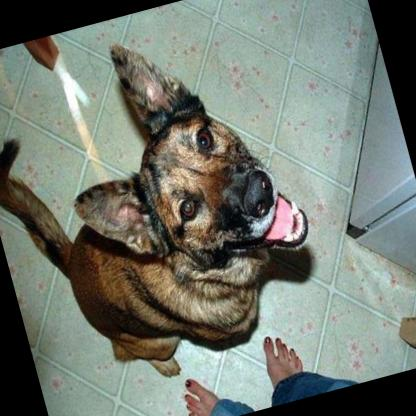malinois: (0, 3, 336, 408)
